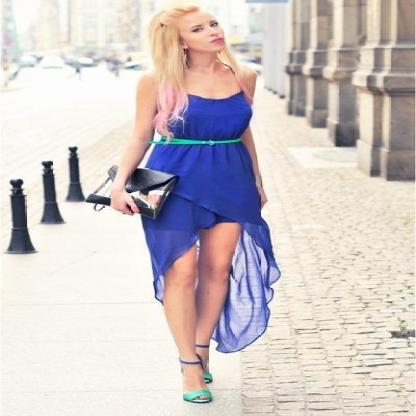bag: (125, 160, 186, 218)
dress: (141, 91, 280, 353)
shoe: (182, 388, 212, 403)
